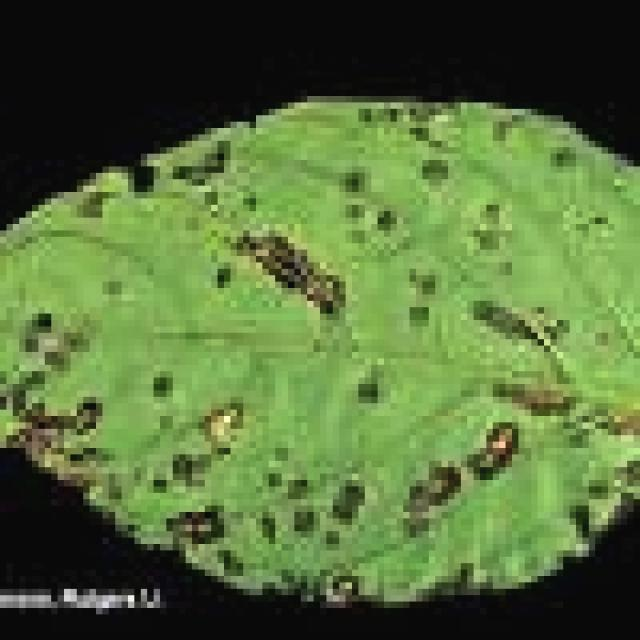Bercak Daun Serkospora: (0, 89, 640, 602)
